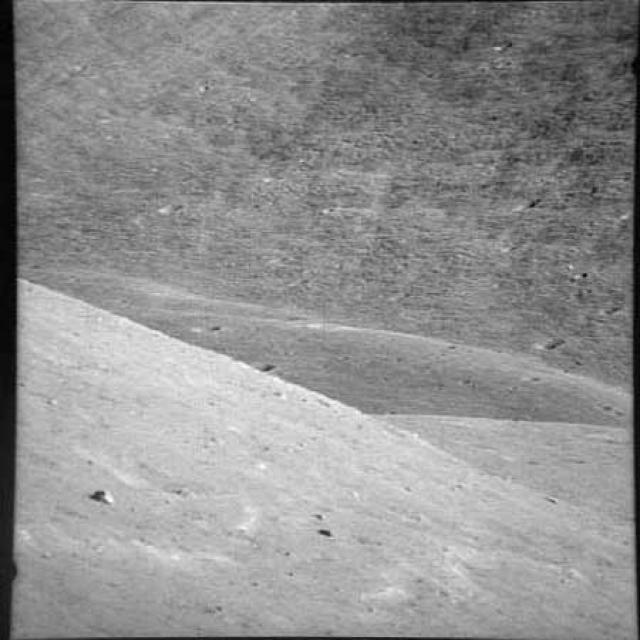rock: (84, 478, 120, 514)
